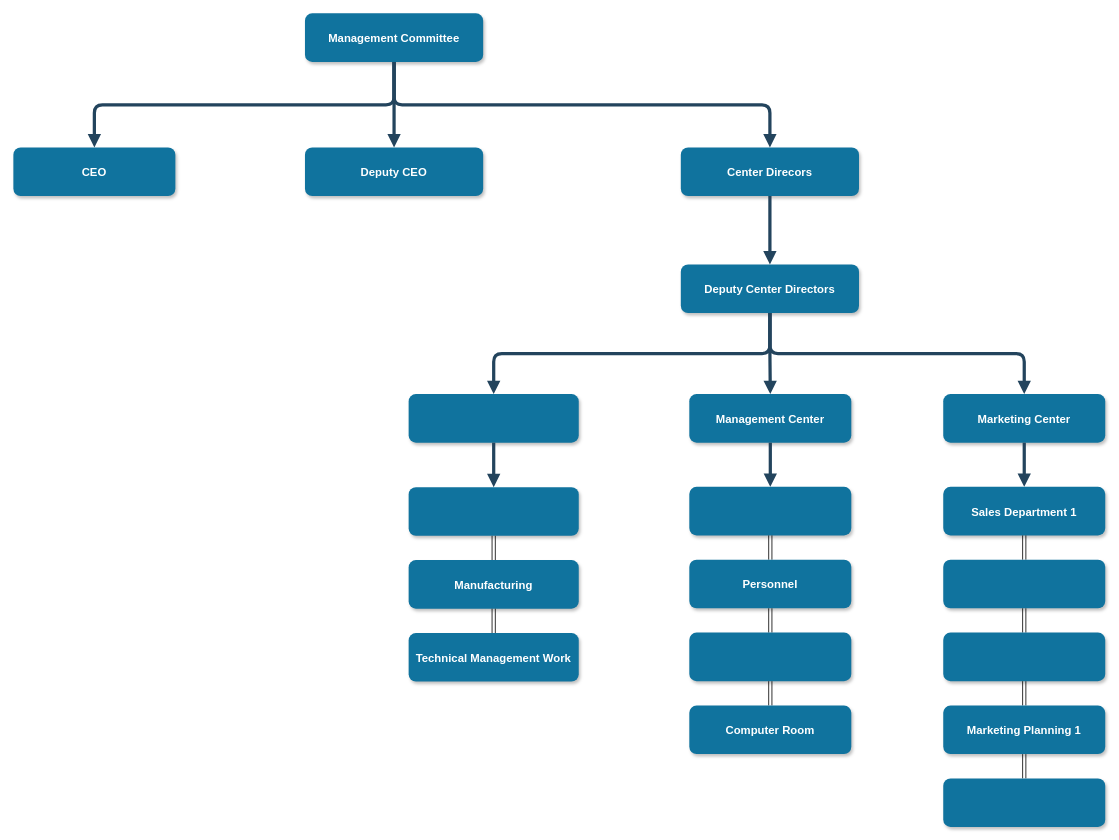
Some shapes in this 1119 by 840 pixel diagram are drawn without their labels. The shapes that lost their labels are listed below. From the top down, each one's centre as x and y in pixels, then its label:
the point at 494,419: Workshop Centetr
the point at 494,512: Procurement Logistics
the point at 771,512: Finance
the point at 1025,585: Sales Department 2
the point at 771,657: General Affairs
the point at 1025,657: Business Development
the point at 1025,803: Marktet Planning 2
